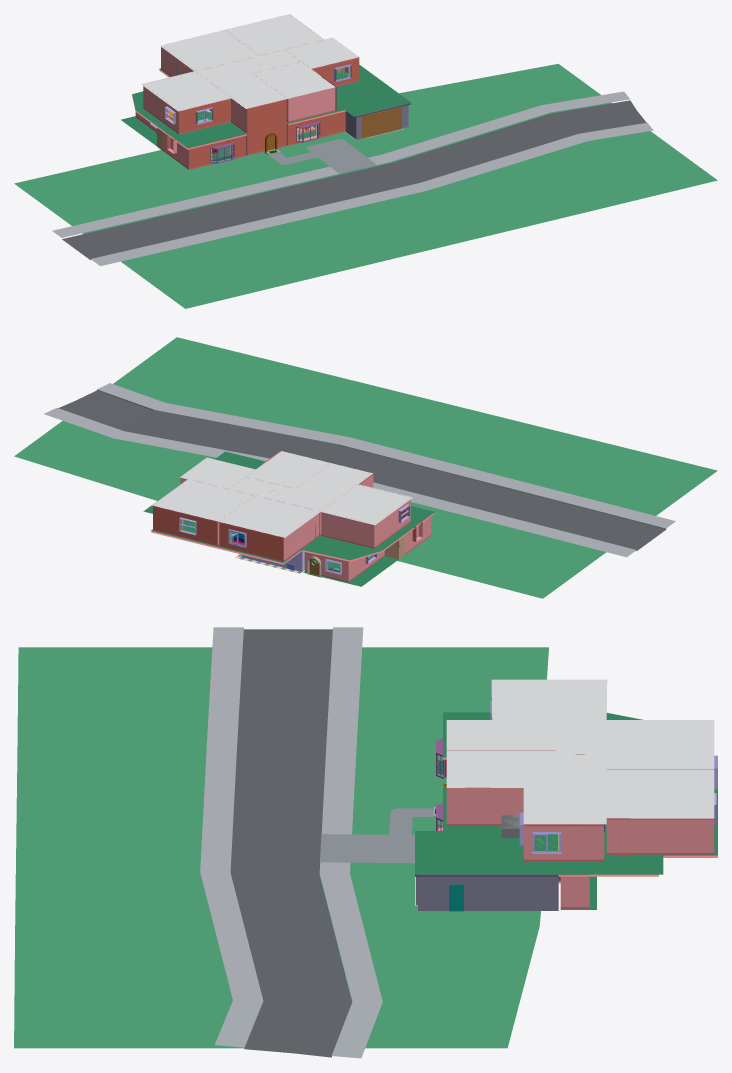
File: House.fbx
3 views of the same model, one above another, from view 1: azimuth 30°, elevation 25°; view 2: azimuth 150°, elevation 25°; view 3: azimuth 270°, elevation 25° (orthographic). The views are drawn at different scales.
Parts seen in each view (by area): view 1: Interior; view 2: Interior; view 3: Interior.
Part boxes in pixels (x1,y1,x2,y2): Interior: [14, 14, 717, 308]; Interior: [14, 337, 717, 598]; Interior: [14, 627, 717, 1058].
Size of the model in its own units: 10093 by 853 by 6957.
Materials: 34 (34 with a texture image).
